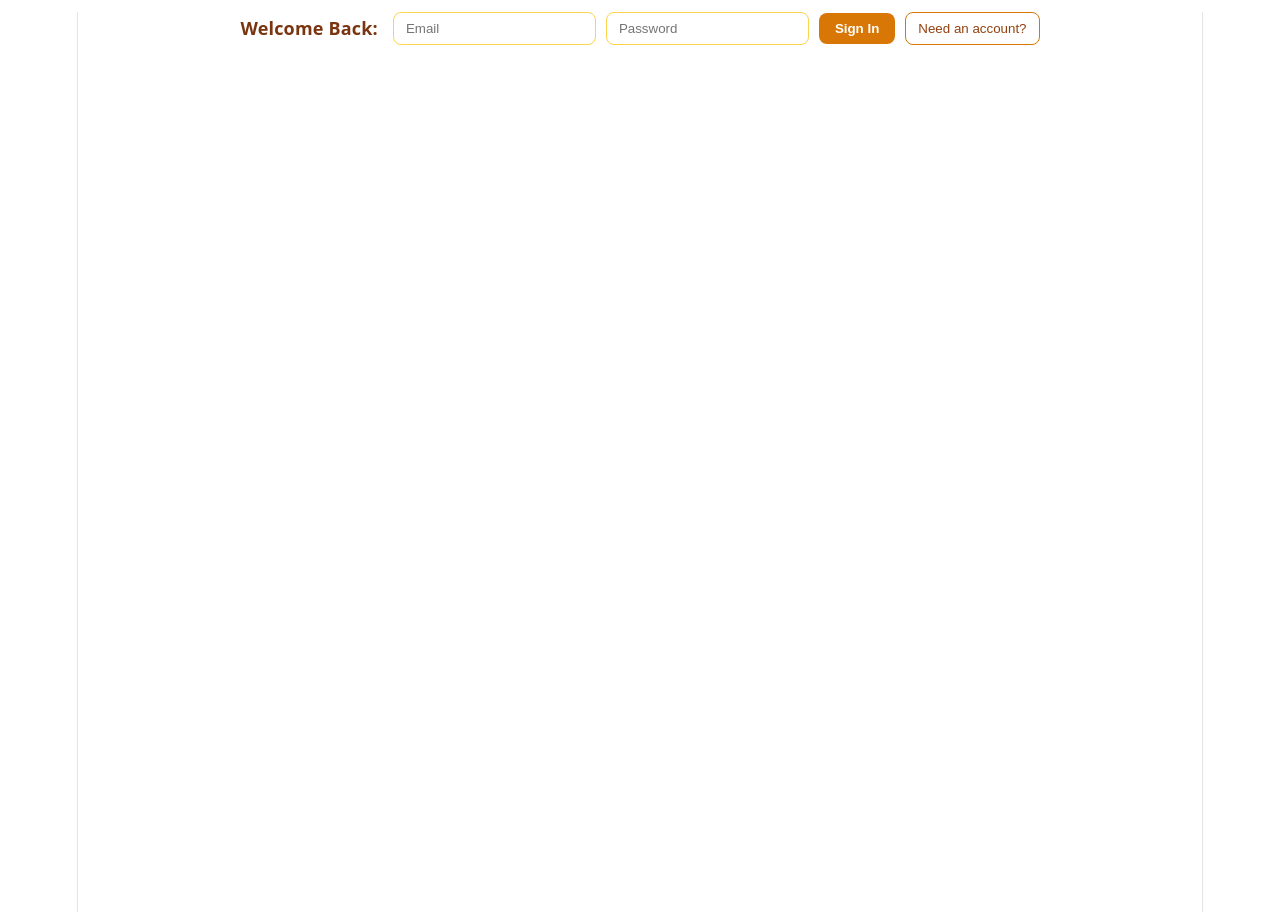
Auth Component Unit Tests › switches between Sign In and Registration modes on button click
Click the button "Need an account?" at (972, 28), box 905,12 -> 1040,45
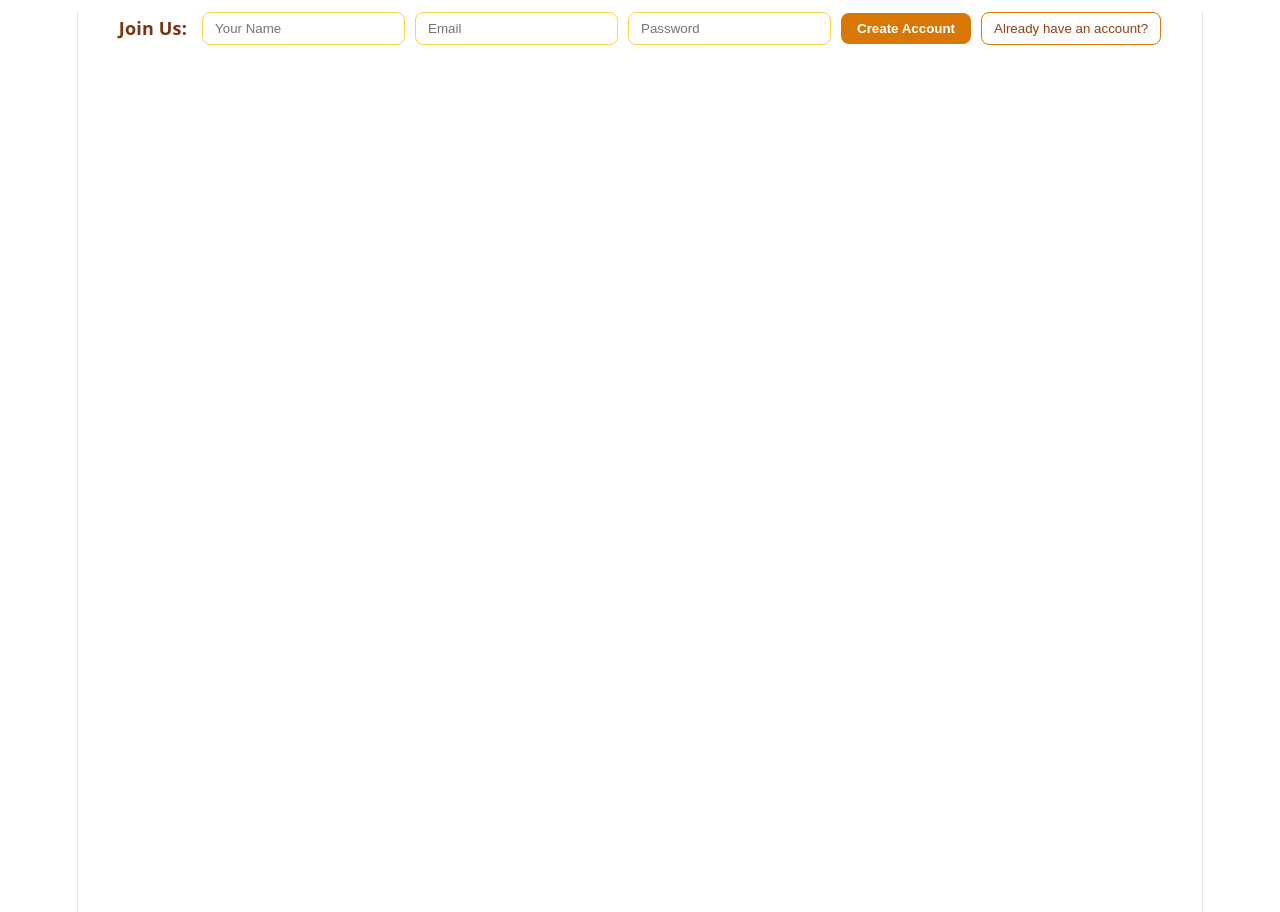
Expected: the text "Join Us:" is shown, 119,16 -> 187,42
Expected: the field with placeholder "Your Name" is shown, 202,12 -> 405,45
Expected: the button "Create Account" is shown, 841,13 -> 971,44
